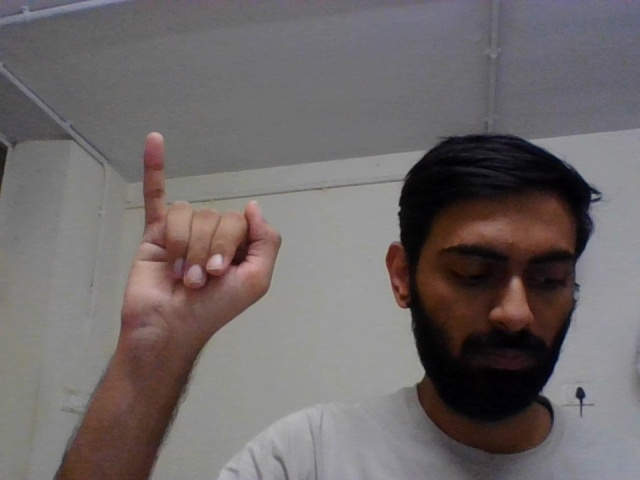I: (111, 127, 287, 371)
